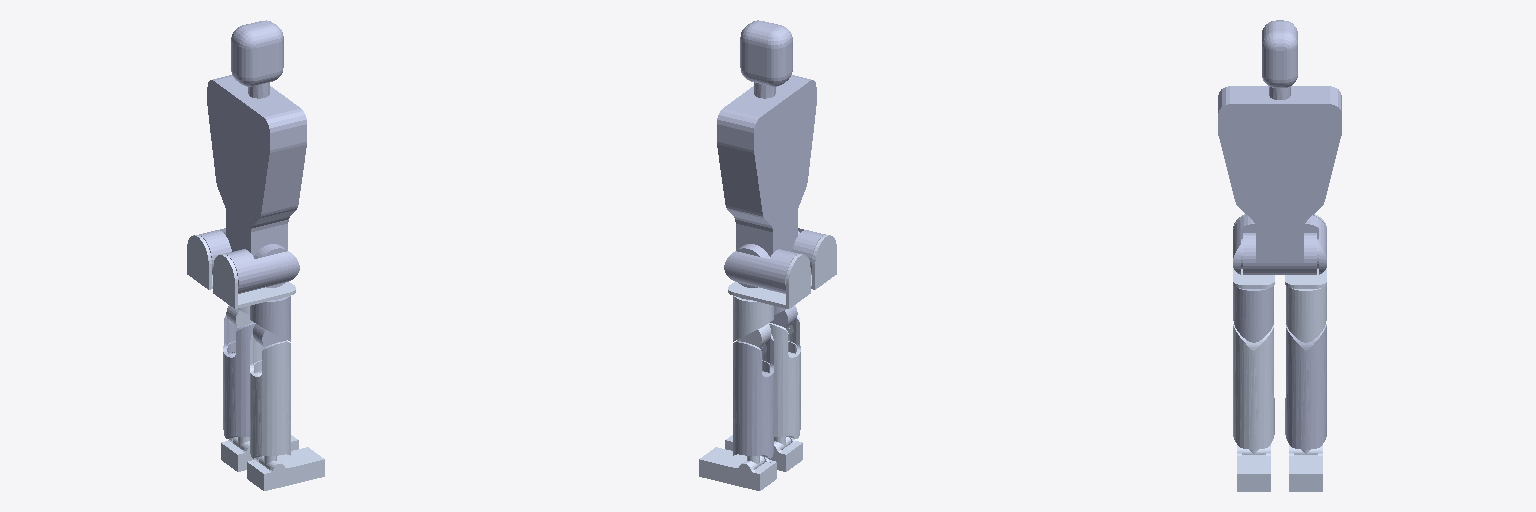
The robot description file, URDF, robot "LEGR":
<?xml version="1.0" encoding="utf-8"?>
<!-- This URDF was automatically created by SolidWorks to URDF Exporter! Originally created by Stephen Brawner (brawner@gmail.com)
     Commit Version: 1.6.0-4-g7f85cfe  Build Version: 1.6.7995.38578
     For more information, please see http://wiki.ros.org/sw_urdf_exporter -->
<robot
  name="LEGR">
  <link
    name="Hip">
    <inertial>
      <origin
        xyz="0 -0.0657500000000001 0"
        rpy="0 0 0" />
      <mass
        value="0.518480597566825" />
      <inertia
        ixx="0.000549470614950559"
        ixy="-1.83732071021993E-36"
        ixz="0"
        iyy="0.00052496160503641"
        iyz="8.15674912065134E-37"
        izz="0.000549470614950559" />
    </inertial>
    <visual>
      <origin
        xyz="0 0 0"
        rpy="0 0 0" />
      <geometry>
        <mesh
          filename="package://LEGR/meshes/Hip.STL" />
      </geometry>
      <material
        name="">
        <color
          rgba="0.792156862745098 0.819607843137255 0.933333333333333 1" />
      </material>
    </visual>
    <collision>
      <origin
        xyz="0 0 0"
        rpy="0 0 0" />
      <geometry>
        <mesh
          filename="package://LEGR/meshes/Hip.STL" />
      </geometry>
    </collision>
  </link>
  <link
    name="Upper_Body">
    <inertial>
      <origin
        xyz="-0.0699544680866373 1.22481588930162E-05 -0.016670267249465"
        rpy="0 0 0" />
      <mass
        value="27.7545033299824" />
      <inertia
        ixx="1.02010359240724"
        ixy="-1.09313760462169E-07"
        ixz="0.000240853820522352"
        iyy="0.840060709146905"
        iyz="0.000104534186117496"
        izz="0.273757156688419" />
    </inertial>
    <visual>
      <origin
        xyz="0 0 0"
        rpy="0 0 0" />
      <geometry>
        <mesh
          filename="package://LEGR/meshes/Upper_Body.STL" />
      </geometry>
      <material
        name="">
        <color
          rgba="0.792156862745098 0.819607843137255 0.933333333333333 1" />
      </material>
    </visual>
    <collision>
      <origin
        xyz="0 0 0"
        rpy="0 0 0" />
      <geometry>
        <mesh
          filename="package://LEGR/meshes/Upper_Body.STL" />
      </geometry>
    </collision>
  </link>
  <joint
    name="Upper_Body"
    type="fixed">
    <origin
      xyz="0.0699999999999998 0 0.359410275400906"
      rpy="3.14159265358979 0 0" />
    <parent
      link="Hip" />
    <child
      link="Upper_Body" />
    <axis
      xyz="0 0 0" />
  </joint>
  <link
    name="Flexion_R">
    <inertial>
      <origin
        xyz="-0.0933671460265784 -0.0979608401676104 1.17708065294764E-07"
        rpy="0 0 0" />
      <mass
        value="1.44233474114918" />
      <inertia
        ixx="0.00332782279239087"
        ixy="0.00101157066507014"
        ixz="-5.3666407851099E-09"
        iyy="0.00443463569987751"
        iyz="9.71024055846825E-09"
        izz="0.00476699071155774" />
    </inertial>
    <visual>
      <origin
        xyz="0 0 0"
        rpy="0 0 0" />
      <geometry>
        <mesh
          filename="package://LEGR/meshes/Flexion_R.STL" />
      </geometry>
      <material
        name="">
        <color
          rgba="0.792156862745098 0.819607843137255 0.933333333333333 1" />
      </material>
    </visual>
    <collision>
      <origin
        xyz="0 0 0"
        rpy="0 0 0" />
      <geometry>
        <mesh
          filename="package://LEGR/meshes/Flexion_R.STL" />
      </geometry>
    </collision>
  </link>
  <joint
    name="F_R"
    type="revolute">
    <origin
      xyz="0 0 0"
      rpy="0 0 0" />
    <parent
      link="Hip" />
    <child
      link="Flexion_R" />
    <axis
      xyz="0 1 0" />
    <limit
      lower="-1.57"
      upper="1.57"
      effort="222"
      velocity="2.93" />
  </joint>
  <link
    name="Abduction_R">
    <inertial>
      <origin
        xyz="-0.0822040490889351 0.0345 -0.0638966265425073"
        rpy="0 0 0" />
      <mass
        value="0.722279981913388" />
      <inertia
        ixx="0.00234373825904436"
        ixy="-5.65101762136744E-19"
        ixz="0.0015132212552273"
        iyy="0.00595516879259536"
        iyz="-4.13370959996044E-20"
        izz="0.00572728176818476" />
    </inertial>
    <visual>
      <origin
        xyz="0 0 0"
        rpy="0 0 0" />
      <geometry>
        <mesh
          filename="package://LEGR/meshes/Abduction_R.STL" />
      </geometry>
      <material
        name="">
        <color
          rgba="0.866666666666667 0.909803921568627 1 1" />
      </material>
    </visual>
    <collision>
      <origin
        xyz="0 0 0"
        rpy="0 0 0" />
      <geometry>
        <mesh
          filename="package://LEGR/meshes/Abduction_R.STL" />
      </geometry>
    </collision>
  </link>
  <joint
    name="A_R"
    type="revolute">
    <origin
      xyz="0 -0.12 0"
      rpy="0 0 0" />
    <parent
      link="Flexion_R" />
    <child
      link="Abduction_R" />
    <axis
      xyz="-1 0 0" />
    <limit
      lower="0.1745"
      upper="-0.7854"
      effort="120"
      velocity="17.488" />
  </joint>
  <link
    name="Rotation_R">
    <inertial>
      <origin
        xyz="-0.00492083504904506 1.30921760738379E-05 0.0463344944581505"
        rpy="0 0 0" />
      <mass
        value="1.44248138871196" />
      <inertia
        ixx="0.00273251479278457"
        ixy="-1.04290732708722E-07"
        ixz="0.000370616735369085"
        iyy="0.00287124977941731"
        iyz="-9.07320675796581E-07"
        izz="0.00283438631947682" />
    </inertial>
    <visual>
      <origin
        xyz="0 0 0"
        rpy="0 0 0" />
      <geometry>
        <mesh
          filename="package://LEGR/meshes/Rotation_R.STL" />
      </geometry>
      <material
        name="">
        <color
          rgba="0.792156862745098 0.819607843137255 0.933333333333333 1" />
      </material>
    </visual>
    <collision>
      <origin
        xyz="0 0 0"
        rpy="0 0 0" />
      <geometry>
        <mesh
          filename="package://LEGR/meshes/Rotation_R.STL" />
      </geometry>
    </collision>
  </link>
  <joint
    name="R_R"
    type="revolute">
    <origin
      xyz="0 0.0345 -0.141"
      rpy="3.14159265358979 0 3.14159265358979" />
    <parent
      link="Abduction_R" />
    <child
      link="Rotation_R" />
    <axis
      xyz="0 0 1" />
    <limit
      lower="-3.1415"
      upper="3.1415"
      effort="60"
      velocity="18.85" />
  </joint>
  <link
    name="Calf_R">
    <inertial>
      <origin
        xyz="-0.00264406421063712 0.0611733687520314 -0.164093531357499"
        rpy="0 0 0" />
      <mass
        value="2.78275474946605" />
      <inertia
        ixx="0.0252612472548975"
        ixy="-7.79067745203157E-07"
        ixz="-0.000374661304279708"
        iyy="0.0252796388579665"
        iyz="-4.16195898257555E-05"
        izz="0.00772981792688356" />
    </inertial>
    <visual>
      <origin
        xyz="0 0 0"
        rpy="0 0 0" />
      <geometry>
        <mesh
          filename="package://LEGR/meshes/Calf_R.STL" />
      </geometry>
      <material
        name="">
        <color
          rgba="0.866666666666667 0.909803921568627 1 1" />
      </material>
    </visual>
    <collision>
      <origin
        xyz="0 0 0"
        rpy="0 0 0" />
      <geometry>
        <mesh
          filename="package://LEGR/meshes/Calf_R.STL" />
      </geometry>
    </collision>
  </link>
  <joint
    name="Knee_R"
    type="revolute">
    <origin
      xyz="0 -0.061 0.181001210671794"
      rpy="3.14159265358979 0 3.14159265358979" />
    <parent
      link="Rotation_R" />
    <child
      link="Calf_R" />
    <axis
      xyz="0 1 0" />
    <limit
      lower="0"
      upper="1.0472"
      effort="222"
      velocity="2.93" />
  </joint>
  <link
    name="Universal_Roll_R">
    <inertial>
      <origin
        xyz="-1.29934063508585E-10 -2.14348409052594E-07 0.0299010093092331"
        rpy="0 0 0" />
      <mass
        value="0.24334410427355" />
      <inertia
        ixx="0.000267985027545248"
        ixy="-1.70796236509871E-11"
        ixz="-4.63113246714869E-12"
        iyy="0.000289452319590034"
        iyz="5.31582942589484E-12"
        izz="0.000157832093058896" />
    </inertial>
    <visual>
      <origin
        xyz="0 0 0"
        rpy="0 0 0" />
      <geometry>
        <mesh
          filename="package://LEGR/meshes/Universal_Roll_R.STL" />
      </geometry>
      <material
        name="">
        <color
          rgba="0.866666666666667 0.909803921568627 1 1" />
      </material>
    </visual>
    <collision>
      <origin
        xyz="0 0 0"
        rpy="0 0 0" />
      <geometry>
        <mesh
          filename="package://LEGR/meshes/Universal_Roll_R.STL" />
      </geometry>
    </collision>
  </link>
  <joint
    name="U_R_R"
    type="revolute">
    <origin
      xyz="0 0.0610002142022335 -0.333411729469431"
      rpy="3.14159265358979 0 3.14159265358979" />
    <parent
      link="Calf_R" />
    <child
      link="Universal_Roll_R" />
    <axis
      xyz="1 0 0" />
    <limit
      lower="0.7854"
      upper="-0.7854"
      effort="120"
      velocity="18.85" />
  </joint>
  <link
    name="Foot_R">
    <inertial>
      <origin
        xyz="0.0598617927444527 2.38831173222757E-06 0.0287102806905619"
        rpy="0 0 0" />
      <mass
        value="1.5066129434386" />
      <inertia
        ixx="0.00210335176155756"
        ixy="-1.66784800173222E-18"
        ixz="2.46680887023512E-05"
        iyy="0.0070723154785942"
        iyz="1.16390308471617E-18"
        izz="0.00815282787440377" />
    </inertial>
    <visual>
      <origin
        xyz="0 0 0"
        rpy="0 0 0" />
      <geometry>
        <mesh
          filename="package://LEGR/meshes/Foot_R.STL" />
      </geometry>
      <material
        name="">
        <color
          rgba="0.866666666666667 0.909803921568627 1 1" />
      </material>
    </visual>
    <collision>
      <origin
        xyz="0 0 0"
        rpy="0 0 0" />
      <geometry>
        <mesh
          filename="package://LEGR/meshes/Foot_R.STL" />
      </geometry>
    </collision>
  </link>
  <joint
    name="U_P_R"
    type="revolute">
    <origin
      xyz="0 0 0.0631508128084964"
      rpy="0 0 3.14159265358979" />
    <parent
      link="Universal_Roll_R" />
    <child
      link="Foot_R" />
    <axis
      xyz="0 1 0" />
    <limit
      lower="-0.7854"
      upper="0.5236"
      effort="120"
      velocity="18.85" />
  </joint>
  <link
    name="Flexion_L">
    <inertial>
      <origin
        xyz="-0.0644248295777232 3.7470027081099E-16 2.22044604925031E-16"
        rpy="0 0 0" />
      <mass
        value="1.61797932437096" />
      <inertia
        ixx="0.00437560330051243"
        ixy="-4.98732999343332E-18"
        ixz="2.14095022044037E-19"
        iyy="0.0073982218963487"
        iyz="1.94204811152001E-08"
        izz="0.00806293191970915" />
    </inertial>
    <visual>
      <origin
        xyz="0 0 0"
        rpy="0 0 0" />
      <geometry>
        <mesh
          filename="package://LEGR/meshes/Flexion_L.STL" />
      </geometry>
      <material
        name="">
        <color
          rgba="0.792156862745098 0.819607843137255 0.933333333333333 1" />
      </material>
    </visual>
    <collision>
      <origin
        xyz="0 0 0"
        rpy="0 0 0" />
      <geometry>
        <mesh
          filename="package://LEGR/meshes/Flexion_L.STL" />
      </geometry>
    </collision>
  </link>
  <joint
    name="F_L"
    type="revolute">
    <origin
      xyz="0 0 0"
      rpy="0 0 0" />
    <parent
      link="Hip" />
    <child
      link="Flexion_L" />
    <axis
      xyz="0 1 0" />
    <limit
      lower="1.57"
      upper="-1.57"
      effort="222"
      velocity="2.93" />
  </joint>
  <link
    name="Abduction_L">
    <inertial>
      <origin
        xyz="0.0822040490889353 -0.0345000000000001 0.0638966265425075"
        rpy="0 0 0" />
      <mass
        value="0.722279981913388" />
      <inertia
        ixx="0.00234373825904436"
        ixy="-9.74564888879635E-20"
        ixz="0.0015132212552273"
        iyy="0.00595516879259536"
        iyz="-2.17124368948612E-19"
        izz="0.00572728176818476" />
    </inertial>
    <visual>
      <origin
        xyz="0 0 0"
        rpy="0 0 0" />
      <geometry>
        <mesh
          filename="package://LEGR/meshes/Abduction_L.STL" />
      </geometry>
      <material
        name="">
        <color
          rgba="0.866666666666667 0.909803921568627 1 1" />
      </material>
    </visual>
    <collision>
      <origin
        xyz="0 0 0"
        rpy="0 0 0" />
      <geometry>
        <mesh
          filename="package://LEGR/meshes/Abduction_L.STL" />
      </geometry>
    </collision>
  </link>
  <joint
    name="A_L"
    type="revolute">
    <origin
      xyz="0 0.12 0"
      rpy="3.14159265358979 0 3.14159265358979" />
    <parent
      link="Flexion_L" />
    <child
      link="Abduction_L" />
    <axis
      xyz="1 0 0" />
    <limit
      lower="-0.7854"
      upper="0.1745"
      effort="120"
      velocity="17.488" />
  </joint>
  <link
    name="Rotation_L">
    <inertial>
      <origin
        xyz="-0.00492083504904506 1.3092176073537E-05 0.0282381387548195"
        rpy="0 0 0" />
      <mass
        value="1.44248138871196" />
      <inertia
        ixx="0.00273251479278457"
        ixy="-1.0429073271178E-07"
        ixz="0.00037061673536908"
        iyy="0.00287124977941733"
        iyz="-9.07320675804238E-07"
        izz="0.00283438631947683" />
    </inertial>
    <visual>
      <origin
        xyz="0 0 0"
        rpy="0 0 0" />
      <geometry>
        <mesh
          filename="package://LEGR/meshes/Rotation_L.STL" />
      </geometry>
      <material
        name="">
        <color
          rgba="0.866666666666667 0.909803921568627 1 1" />
      </material>
    </visual>
    <collision>
      <origin
        xyz="0 0 0"
        rpy="0 0 0" />
      <geometry>
        <mesh
          filename="package://LEGR/meshes/Rotation_L.STL" />
      </geometry>
    </collision>
  </link>
  <joint
    name="R_L"
    type="revolute">
    <origin
      xyz="0 -0.0344999999999997 0.16777798973535"
      rpy="0 0 0" />
    <parent
      link="Abduction_L" />
    <child
      link="Rotation_L" />
    <axis
      xyz="0 0 1" />
    <limit
      lower="3.1415"
      upper="-3.1415"
      effort="60"
      velocity="18.85" />
  </joint>
  <link
    name="Calf_L">
    <inertial>
      <origin
        xyz="-0.00264406421064045 0.0611733687460123 -0.164093531357484"
        rpy="0 0 0" />
      <mass
        value="2.78275474946527" />
      <inertia
        ixx="0.0252612472548964"
        ixy="-7.79067541193254E-07"
        ixz="-0.000374661304280883"
        iyy="0.0252796388579601"
        iyz="-4.1619590430814E-05"
        izz="0.00772981792688854" />
    </inertial>
    <visual>
      <origin
        xyz="0 0 0"
        rpy="0 0 0" />
      <geometry>
        <mesh
          filename="package://LEGR/meshes/Calf_L.STL" />
      </geometry>
      <material
        name="">
        <color
          rgba="0.792156862745098 0.819607843137255 0.933333333333333 1" />
      </material>
    </visual>
    <collision>
      <origin
        xyz="0 0 0"
        rpy="0 0 0" />
      <geometry>
        <mesh
          filename="package://LEGR/meshes/Calf_L.STL" />
      </geometry>
    </collision>
  </link>
  <joint
    name="Knee_L"
    type="revolute">
    <origin
      xyz="0 -0.0610000000000004 0.154223220936442"
      rpy="3.14159265358979 0 3.14159265358979" />
    <parent
      link="Rotation_L" />
    <child
      link="Calf_L" />
    <axis
      xyz="0 1 0" />
    <limit
      lower="0"
      upper="1.0472"
      effort="222"
      velocity="2.93" />
  </joint>
  <link
    name="Universal_Roll_L">
    <inertial>
      <origin
        xyz="1.29933841463981E-10 2.14348409049991E-07 0.0299010093092332"
        rpy="0 0 0" />
      <mass
        value="0.24334410427355" />
      <inertia
        ixx="0.000267985027545248"
        ixy="-1.70796236326147E-11"
        ixz="4.631132791759E-12"
        iyy="0.000289452319590034"
        iyz="-5.31582949428168E-12"
        izz="0.000157832093058897" />
    </inertial>
    <visual>
      <origin
        xyz="0 0 0"
        rpy="0 0 0" />
      <geometry>
        <mesh
          filename="package://LEGR/meshes/Universal_Roll_L.STL" />
      </geometry>
      <material
        name="">
        <color
          rgba="0.866666666666667 0.909803921568627 1 1" />
      </material>
    </visual>
    <collision>
      <origin
        xyz="0 0 0"
        rpy="0 0 0" />
      <geometry>
        <mesh
          filename="package://LEGR/meshes/Universal_Roll_L.STL" />
      </geometry>
    </collision>
  </link>
  <joint
    name="U_R_L"
    type="revolute">
    <origin
      xyz="0 0.0609997857977665 -0.333411729469431"
      rpy="-3.14159265358979 0 3.14159265358979" />
    <parent
      link="Calf_L" />
    <child
      link="Universal_Roll_L" />
    <axis
      xyz="1 0 0" />
    <limit
      lower="0.7854"
      upper="-0.7854"
      effort="120"
      velocity="18.85" />
  </joint>
  <link
    name="Foot_L">
    <inertial>
      <origin
        xyz="0.0598634582000981 -2.38831173235421E-06 0.0287102806905618"
        rpy="0 0 0" />
      <mass
        value="1.5066129434386" />
      <inertia
        ixx="0.00210335176155756"
        ixy="9.66489000618252E-19"
        ixz="2.46680887023539E-05"
        iyy="0.00707231547859419"
        iyz="6.07596965342924E-19"
        izz="0.00815282787440376" />
    </inertial>
    <visual>
      <origin
        xyz="0 0 0"
        rpy="0 0 0" />
      <geometry>
        <mesh
          filename="package://LEGR/meshes/Foot_L.STL" />
      </geometry>
      <material
        name="">
        <color
          rgba="0.866666666666667 0.909803921568627 1 1" />
      </material>
    </visual>
    <collision>
      <origin
        xyz="0 0 0"
        rpy="0 0 0" />
      <geometry>
        <mesh
          filename="package://LEGR/meshes/Foot_L.STL" />
      </geometry>
    </collision>
  </link>
  <joint
    name="U_P_L"
    type="revolute">
    <origin
      xyz="0 0 0.0631508128084964"
      rpy="0 0 -3.14159265358979" />
    <parent
      link="Universal_Roll_L" />
    <child
      link="Foot_L" />
    <axis
      xyz="0 1 0" />
    <limit
      lower="-0.7854"
      upper="0.5236"
      effort="120"
      velocity="18.85" />
  </joint>
</robot>

--- Facts derived from the render (not from the file) ---
Views: 3 orthographic renders of the robot side by side, from view 1: azimuth 30°, elevation 25°; view 2: azimuth 150°, elevation 25°; view 3: azimuth 270°, elevation 25°.
Robot: LEGR — 14 links, 13 joints (12 revolute, 1 fixed); root link Hip; default pose: all joints at 0.
Visible links, largest first — view 1: Upper_Body, Calf_R, Calf_L, Foot_R, Flexion_R, Abduction_R, Rotation_R, Abduction_L, Foot_L, Flexion_L; view 2: Upper_Body, Calf_L, Calf_R, Foot_L, Flexion_L, Abduction_L, Rotation_L, Abduction_R, Foot_R, Flexion_R; view 3: Upper_Body, Calf_R, Calf_L, Rotation_R, Rotation_L, Foot_R, Foot_L, Flexion_R, Flexion_L, Abduction_L, Abduction_R.
Link boxes in pixels (box(x1,y1,x2,y2)): Upper_Body: box(207, 20, 306, 287); Calf_R: box(250, 334, 290, 458); Calf_L: box(223, 316, 255, 438); Foot_R: box(247, 447, 324, 490); Flexion_R: box(226, 249, 299, 293); Abduction_R: box(213, 254, 295, 308); Rotation_R: box(250, 296, 290, 346); Abduction_L: box(187, 235, 212, 289); Foot_L: box(221, 435, 298, 471); Flexion_L: box(199, 228, 231, 274); Upper_Body: box(717, 20, 816, 287); Calf_L: box(733, 334, 773, 458); Calf_R: box(768, 315, 800, 438); Foot_L: box(699, 447, 776, 490); Flexion_L: box(724, 249, 797, 293); Abduction_L: box(728, 254, 810, 308); Rotation_L: box(733, 296, 773, 346); Abduction_R: box(811, 235, 836, 289); Foot_R: box(725, 435, 802, 471); Flexion_R: box(792, 228, 825, 274); Upper_Body: box(1218, 20, 1341, 274); Calf_R: box(1233, 324, 1274, 449); Calf_L: box(1285, 324, 1326, 449); Rotation_R: box(1233, 286, 1273, 342); Rotation_L: box(1286, 286, 1326, 342); Foot_R: box(1237, 445, 1270, 491); Foot_L: box(1289, 445, 1322, 491); Flexion_R: box(1233, 215, 1255, 274); Flexion_L: box(1304, 215, 1326, 274); Abduction_L: box(1285, 214, 1326, 288); Abduction_R: box(1233, 214, 1274, 288).
Size in the robot's own frame: 0.3455 by 0.4058 by 1.6 metres.
Meshes: 14 distinct files referenced, 14 mesh visuals loaded (14 binary STL).
